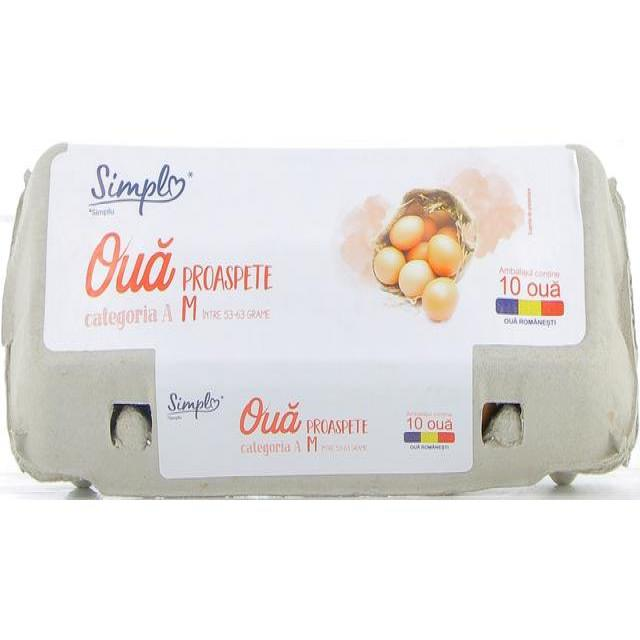eggs: (3, 144, 636, 495)
